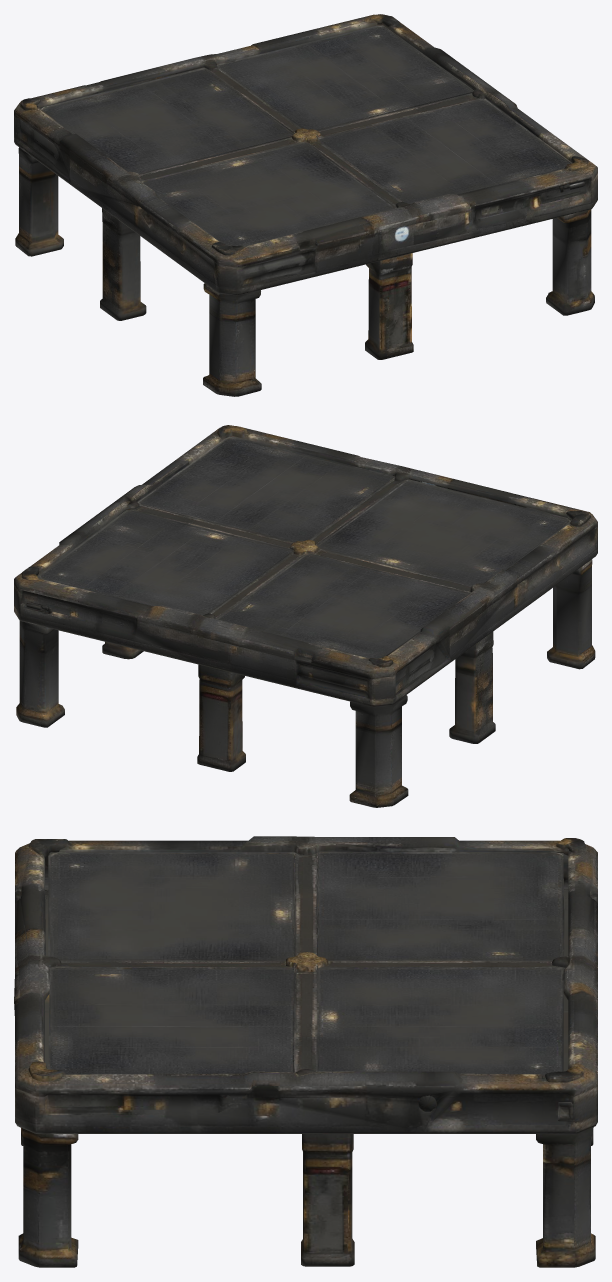
File: selected.glb
3 views of the same model, one above another, from view 1: azimuth 30°, elevation 25°; view 2: azimuth 150°, elevation 25°; view 3: azimuth 270°, elevation 25° (orthographic). The views are drawn at different scales.
Parts seen in each view (by area): view 1: tripo_node_71185a22-bd5c-4c99-8b65-525deb15280d; view 2: tripo_node_71185a22-bd5c-4c99-8b65-525deb15280d; view 3: tripo_node_71185a22-bd5c-4c99-8b65-525deb15280d.
Part boxes in pixels (<box>): tripo_node_71185a22-bd5c-4c99-8b65-525deb15280d: <box>14,14,597,396</box>; tripo_node_71185a22-bd5c-4c99-8b65-525deb15280d: <box>14,425,597,807</box>; tripo_node_71185a22-bd5c-4c99-8b65-525deb15280d: <box>14,836,597,1267</box>.
Bounding box in the file's own units: 0.998 × 0.3574 × 0.9941.
Materials: 1 (1 with a texture image).
